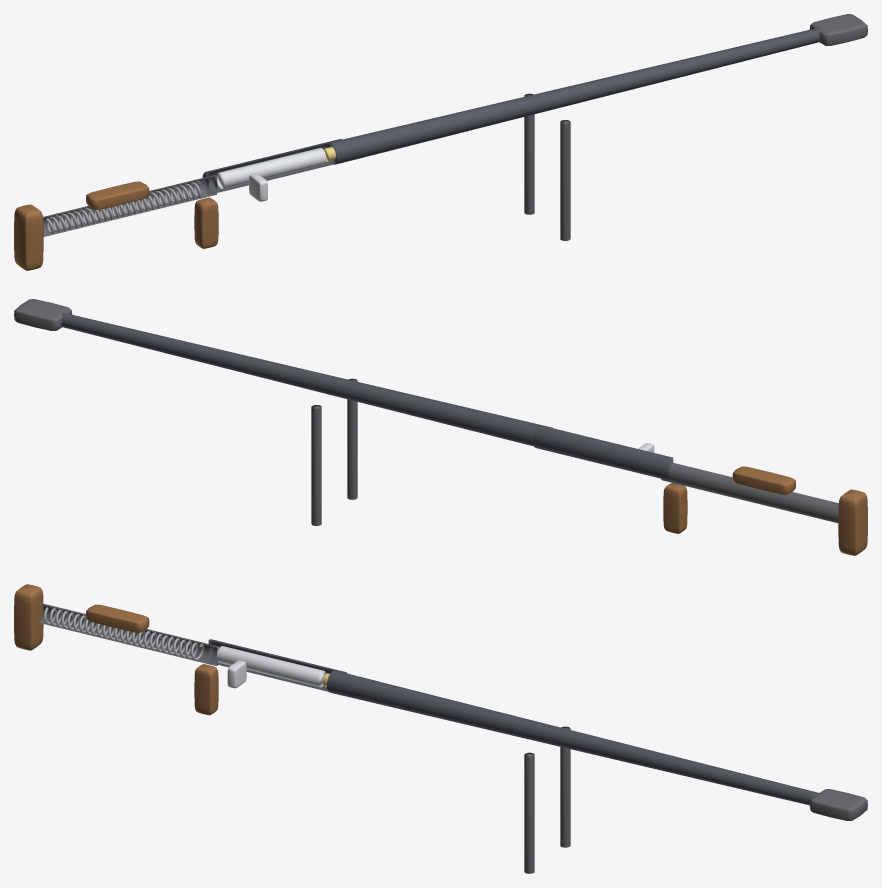
The model's file is ptrd41-cut.glb.
3 renders of one model, top to bottom at view 1: azimuth 30°, elevation 25°; view 2: azimuth 150°, elevation 25°; view 3: azimuth 330°, elevation 25°, orthographic.
Parts seen in each view (by area): view 1: barrel_1216mm, recoil_buffer_spring, bolt_body, shoulder_pad, stock_tube, bipod_leg_R, muzzle_brake_ptrd, cheek_rest, pistol_grip, bipod_leg_L, receiver_cyl; view 2: barrel_1216mm, receiver_cyl, stock_tube, shoulder_pad, bipod_leg_L, muzzle_brake_ptrd, cheek_rest, pistol_grip, bipod_leg_R; view 3: barrel_1216mm, recoil_buffer_spring, bolt_body, shoulder_pad, stock_tube, muzzle_brake_ptrd, bipod_leg_R, cheek_rest, pistol_grip, bipod_leg_L, receiver_cyl.
Part boxes in pixels (x1,y1,x2,y2): barrel_1216mm: (327,28,820,164); recoil_buffer_spring: (46,180,201,234); bolt_body: (217,148,326,189); shoulder_pad: (14,204,43,270); stock_tube: (43,175,216,236); bipod_leg_R: (560,120,570,240); muzzle_brake_ptrd: (809,14,867,45); cheek_rest: (86,181,149,209); pistol_grip: (194,197,218,248); bipod_leg_L: (524,93,534,214); receiver_cyl: (202,139,342,194); barrel_1216mm: (61,313,552,446); receiver_cyl: (533,425,673,479); stock_tube: (660,463,838,523); shoulder_pad: (838,489,867,555); bipod_leg_L: (311,405,321,525); muzzle_brake_ptrd: (14,299,72,330); cheek_rest: (732,466,795,494); pistol_grip: (663,483,687,533); bipod_leg_R: (347,378,357,499); barrel_1216mm: (327,670,819,805); recoil_buffer_spring: (43,607,203,660); bolt_body: (216,646,326,687); shoulder_pad: (14,584,43,650); stock_tube: (39,603,219,666); muzzle_brake_ptrd: (809,789,867,820); bipod_leg_R: (524,752,534,873); cheek_rest: (86,604,149,632); pistol_grip: (194,664,218,715); bipod_leg_L: (560,726,570,847); receiver_cyl: (208,639,347,691).
Size of the model in its own units: 2.04 by 0.3325 by 0.172.
